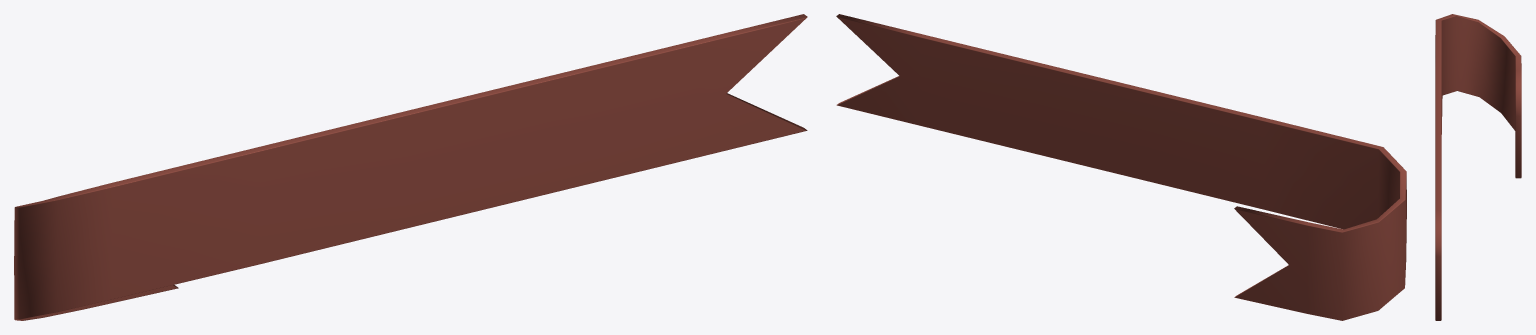
Rendered from PlacementBackdropRibbonAlt1.fbx.
The picture shows the model from 3 angles, left to right: view 1: azimuth 30°, elevation 25°; view 2: azimuth 150°, elevation 25°; view 3: azimuth 270°, elevation 25°; orthographic projection. The views are drawn at different scales.
Visible parts, largest first — view 1: Ribbon2; view 2: Ribbon2; view 3: Ribbon2.
Part boxes in pixels (x1,y1,x2,y2): Ribbon2: [14, 14, 807, 320]; Ribbon2: [836, 14, 1406, 320]; Ribbon2: [1435, 14, 1521, 320].
Bounding box in the file's own units: 170 × 37.89 × 25.29.
